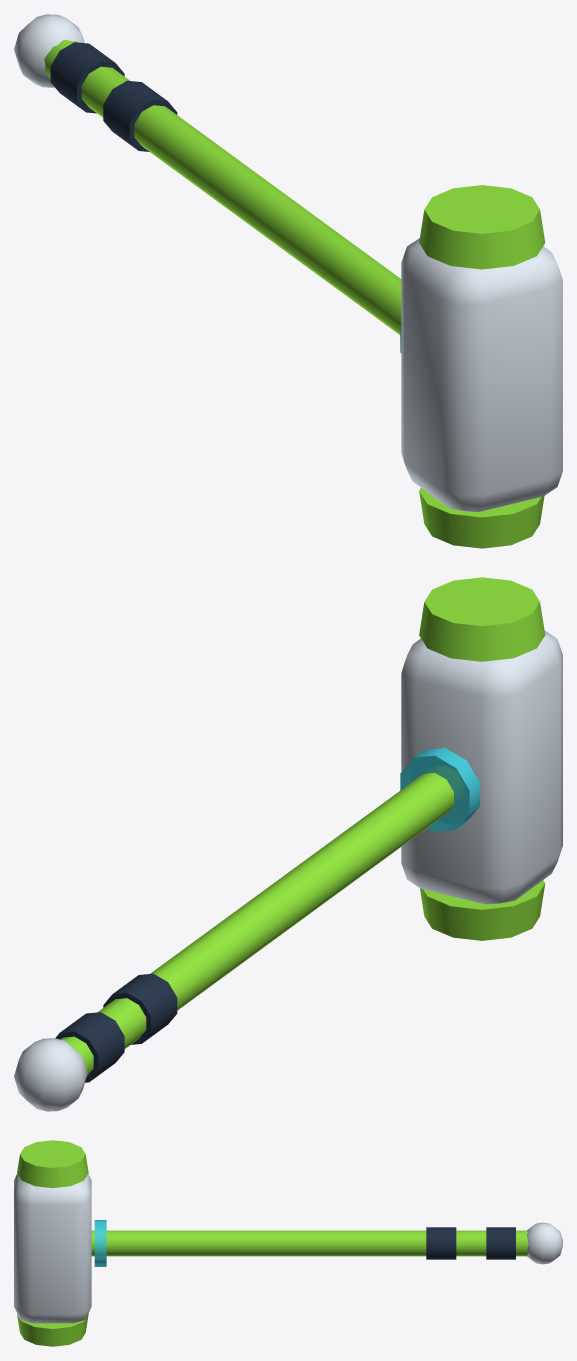
The model's file is SledgeHammer.fbx.
3 renders of one model, top to bottom at view 1: azimuth 30°, elevation 25°; view 2: azimuth 150°, elevation 25°; view 3: azimuth 270°, elevation 25°, orthographic. The views are drawn at different scales.
Parts seen in each view (by area): view 1: SledgeHammer; view 2: SledgeHammer; view 3: SledgeHammer.
Boxes of the visible parts, left/top/right/bottom form: SledgeHammer: left=14, top=14, right=562, bottom=548; SledgeHammer: left=14, top=577, right=562, bottom=1111; SledgeHammer: left=14, top=1140, right=562, bottom=1346.
Bounding box in the file's own units: 0.13 × 0.33 × 0.9185.
